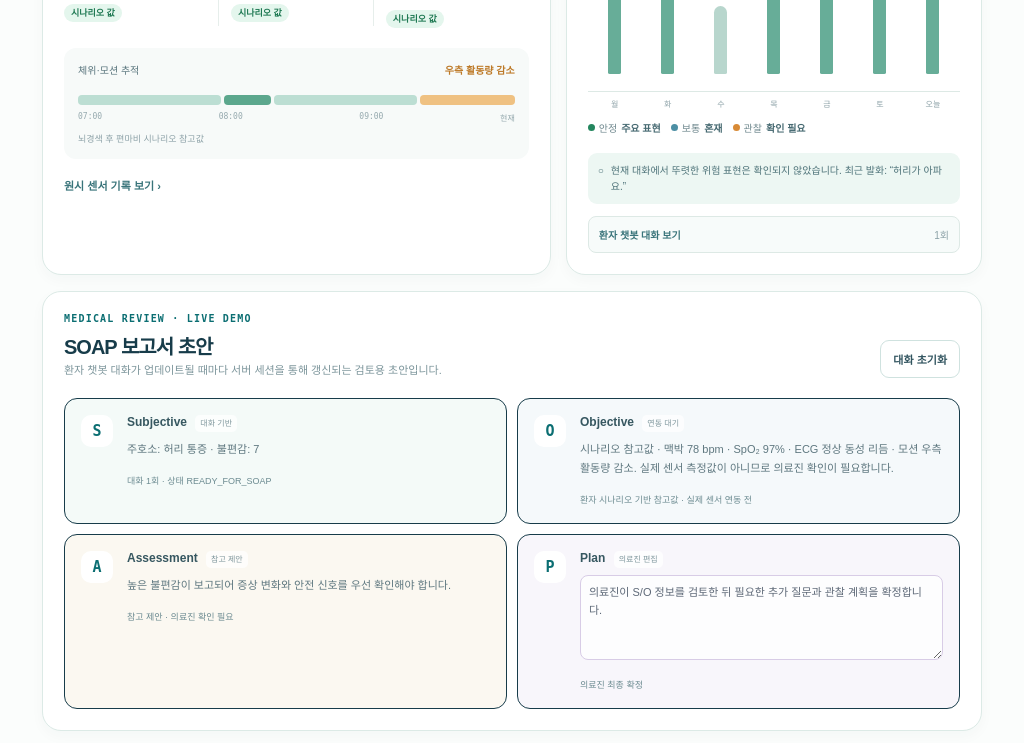
Scenario: ClinicianDashboard › 선택 환자의 데모 대화와 SOAP 초안을 초기화한다
This screenshot has width=1024, height=743.
(page scrolled)
Expected: the text "주호소: 허리 통증 · 불편감: 7" is shown, [127, 443, 259, 455]
Click the button "대화 초기화" at (920, 359), box [880, 340, 960, 378]
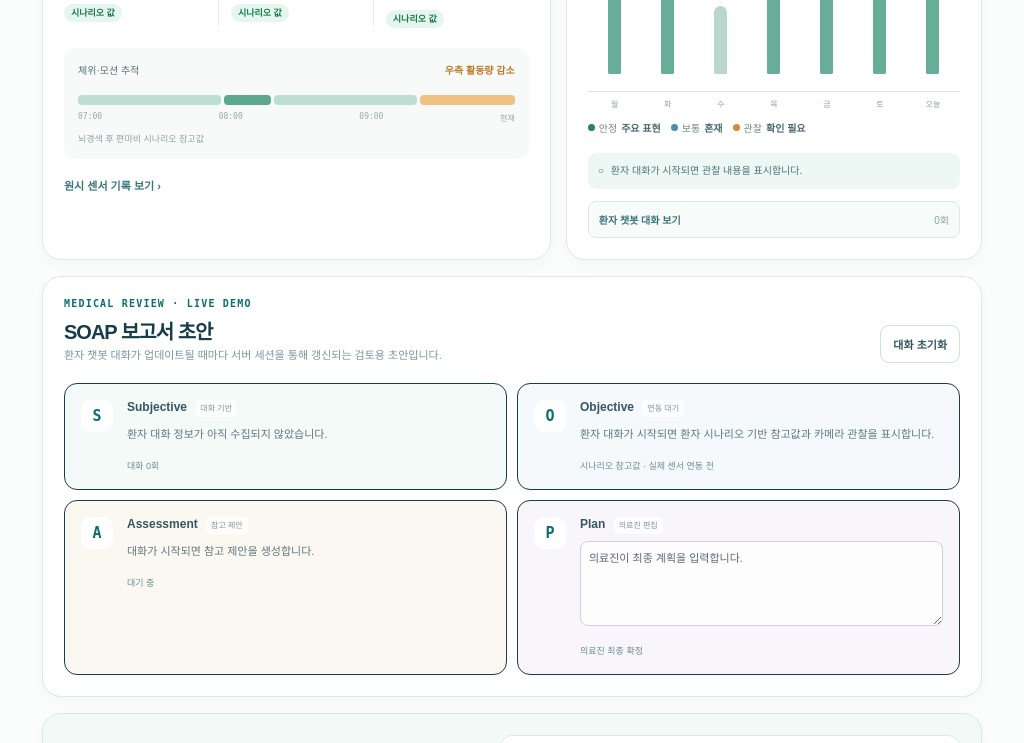
Result: the text "환자 대화 정보가 아직 수집되지 않았습니다." is shown at [127, 428, 328, 440]
